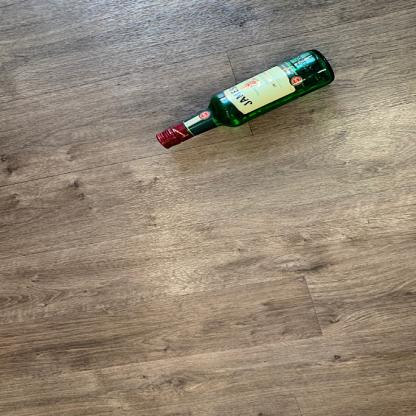trash: (154, 49, 335, 150)
